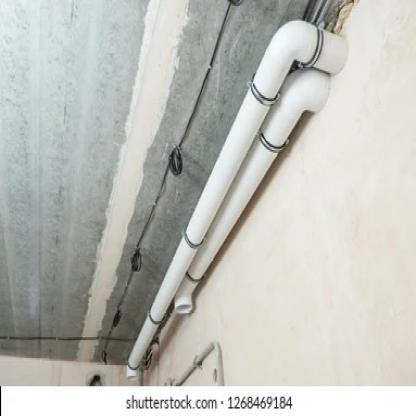PVC: (127, 19, 349, 380), (142, 67, 332, 366), (173, 338, 226, 386)
